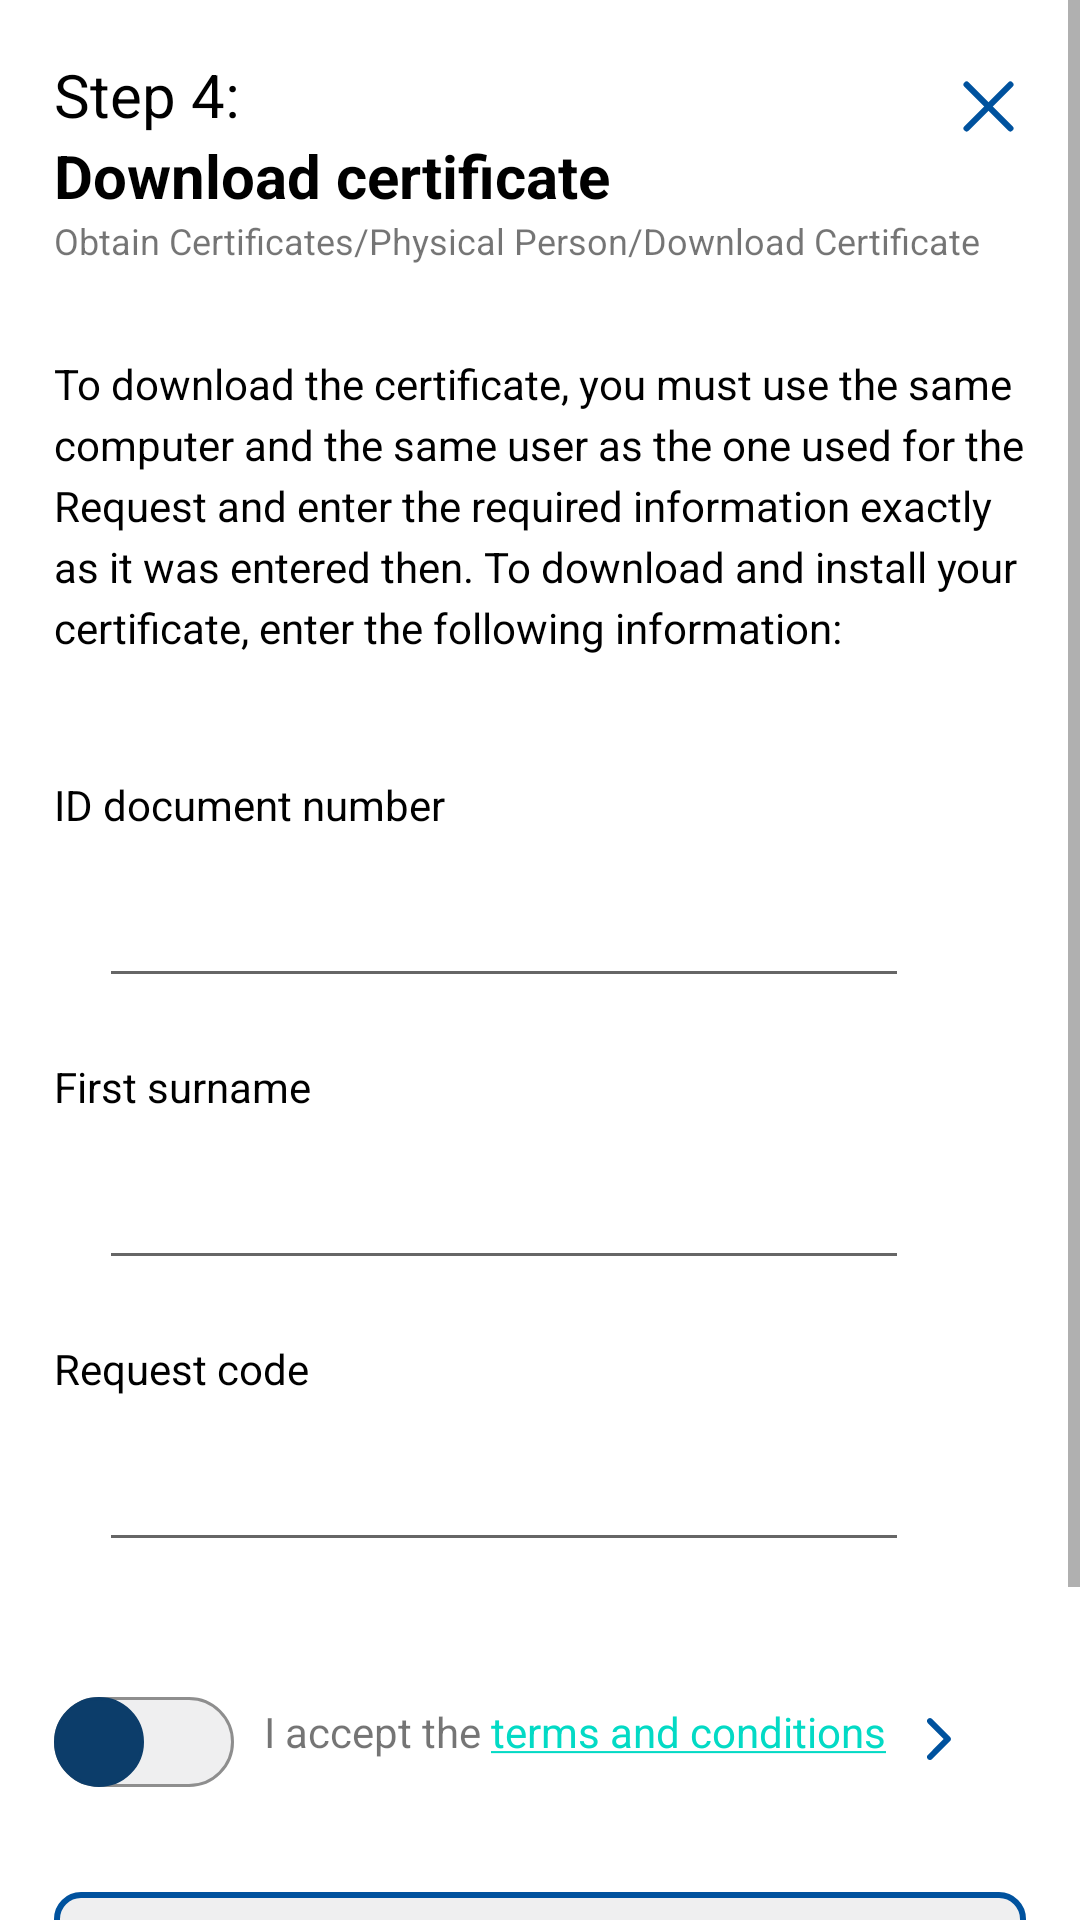

Screen size 1080 x 1920. Icon name, then its center in pixels as (x=x, y=y):
cross: (x=988, y=106)
right arrow: (x=939, y=1739)
